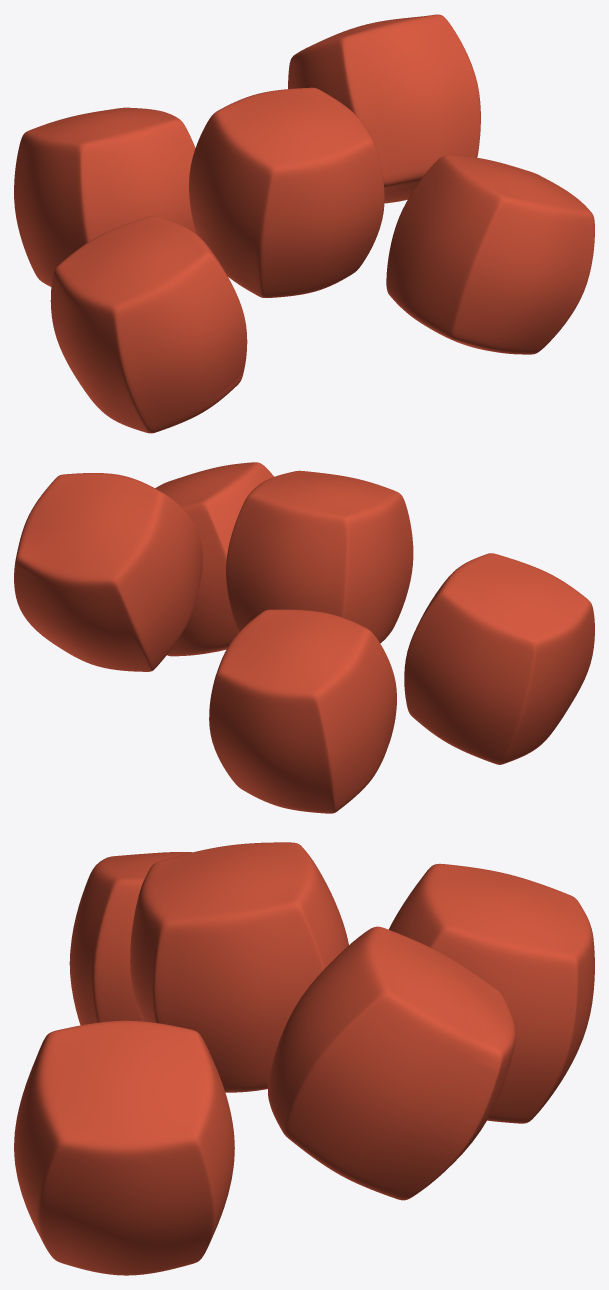
Rendered from SM_MeatCutBall.fbx.
3 renders of one model, top to bottom at view 1: azimuth 30°, elevation 25°; view 2: azimuth 150°, elevation 25°; view 3: azimuth 270°, elevation 25°, orthographic. The views are drawn at different scales.
Visible parts, largest first — view 1: SM_MeatCutBall; view 2: SM_MeatCutBall; view 3: SM_MeatCutBall.
Part boxes in pixels (x1,y1,x2,y2): SM_MeatCutBall: (14,14,594,433); SM_MeatCutBall: (14,462,594,813); SM_MeatCutBall: (14,842,594,1275).
Size of the model in its own units: 30.51 by 15.35 by 25.67.
